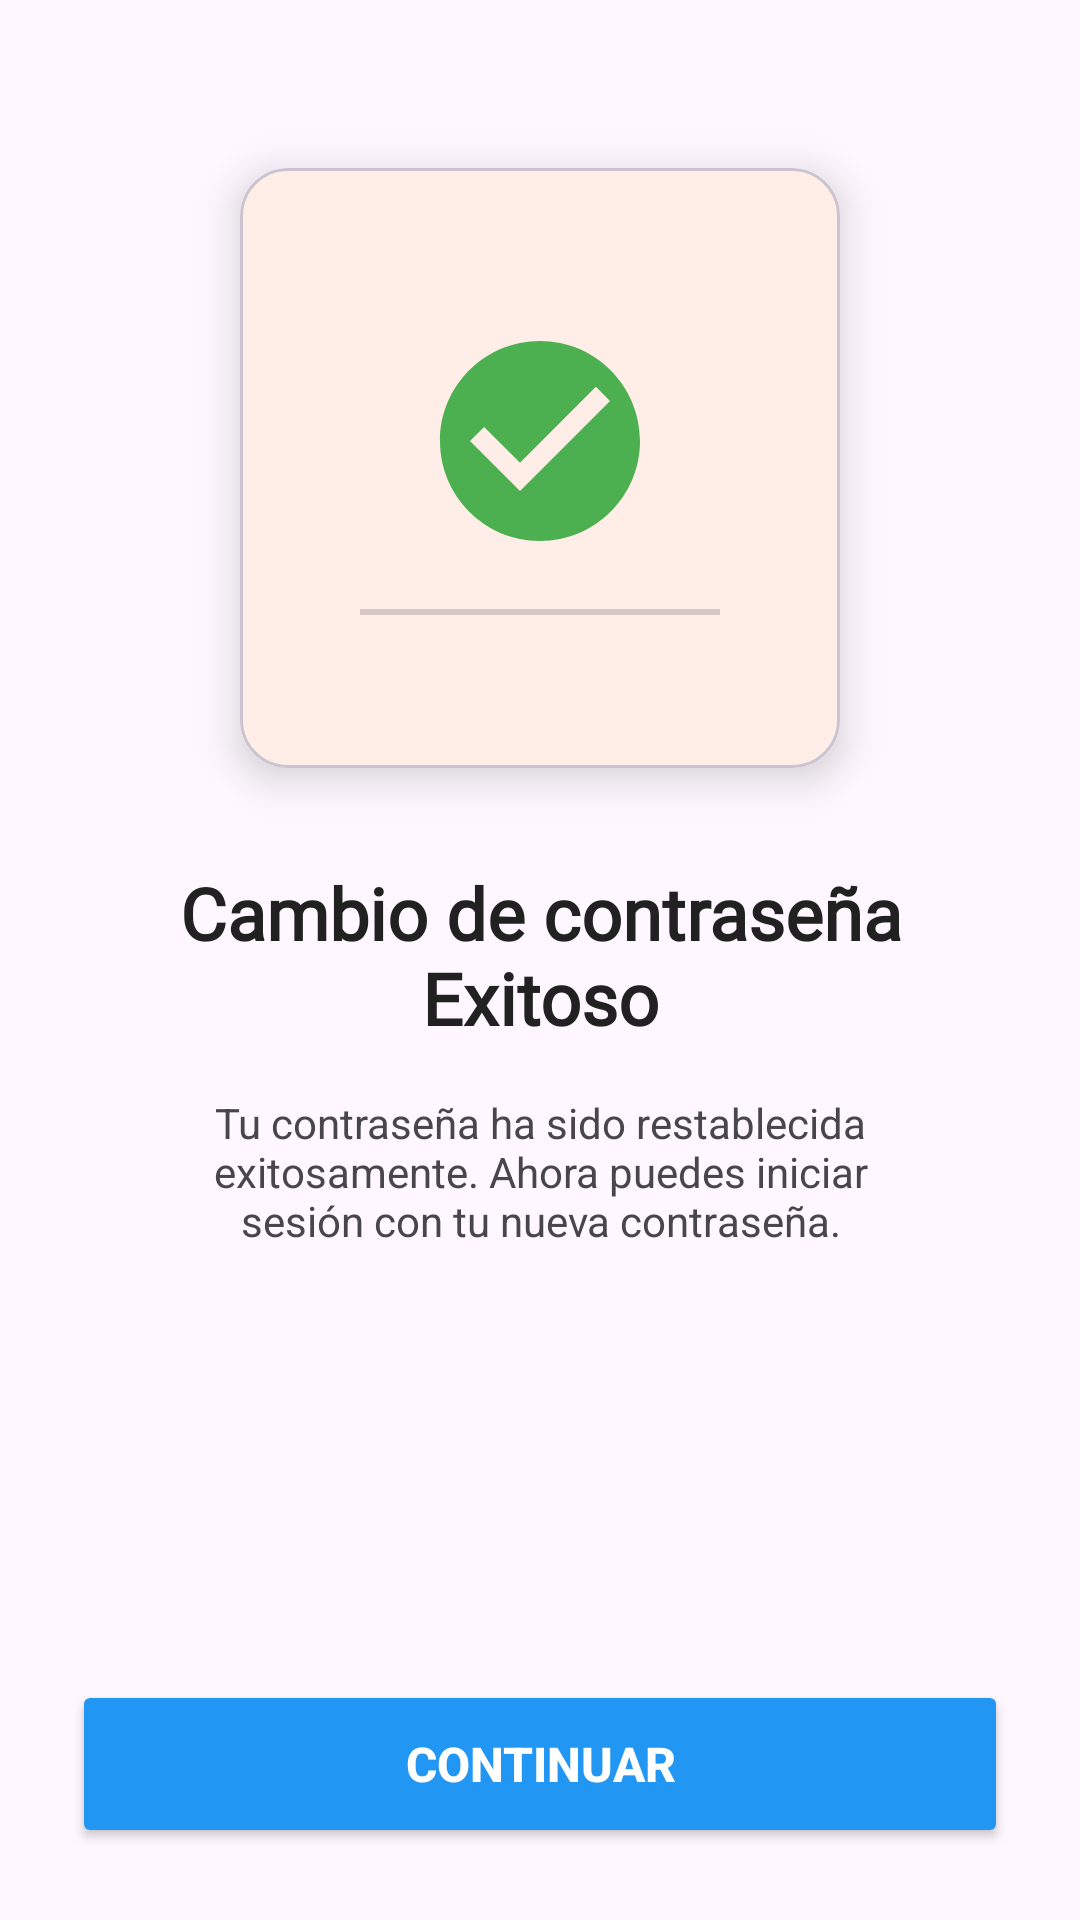

Icon bounding boxes for this 1080x1920 phone screenshot, format (x1, y1, x2, y2):
check circle: (440, 341, 640, 541)
